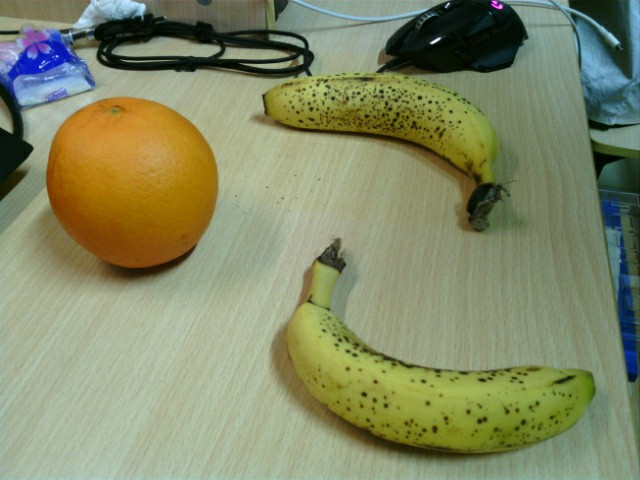normal_banana: (287, 237, 598, 455), (262, 70, 510, 231)
normal_orange: (45, 97, 219, 267)
